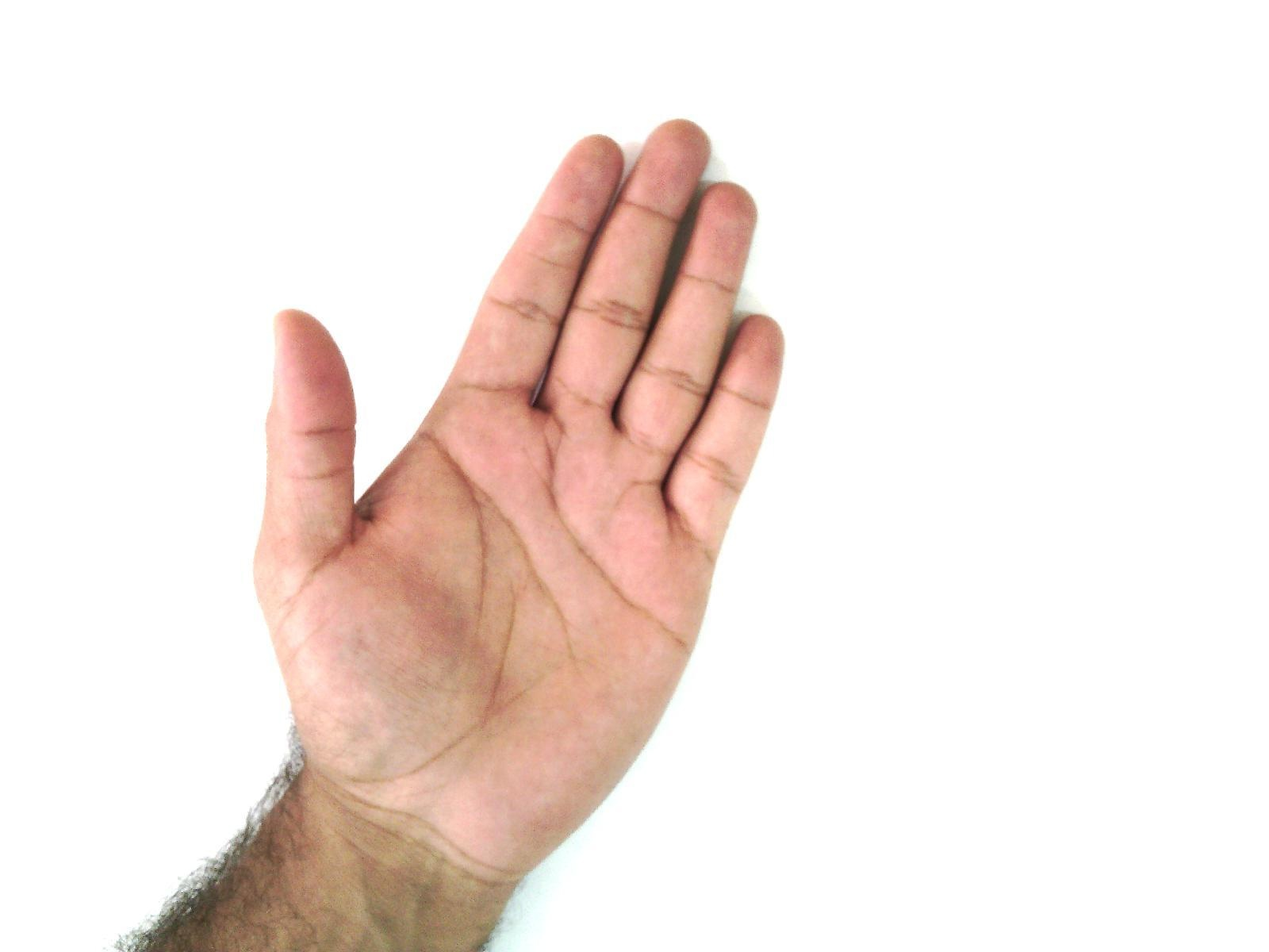open_palm: (250, 117, 789, 878)
